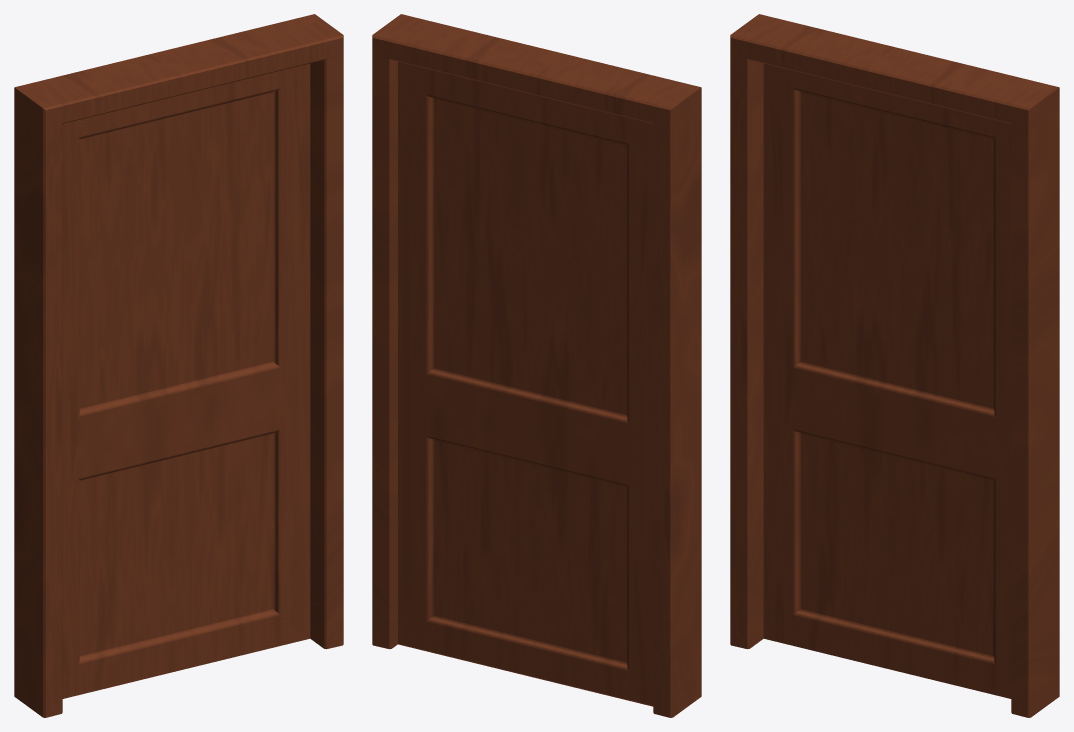
File: PINTU.fbx
3 views of the same model, side by side, from view 1: azimuth 30°, elevation 25°; view 2: azimuth 150°, elevation 25°; view 3: azimuth 330°, elevation 25° (orthographic).
Parts seen in each view (by area): view 1: BUKA PINTU, PINTU; view 2: BUKA PINTU, PINTU; view 3: BUKA PINTU, PINTU.
Part boxes in pixels (x1,y1,x2,y2): BUKA PINTU: (62, 63, 310, 698); PINTU: (14, 14, 343, 717); BUKA PINTU: (398, 61, 653, 706); PINTU: (372, 14, 701, 717); BUKA PINTU: (763, 63, 1011, 698); PINTU: (730, 14, 1059, 717).
Size of the model in its own units: 128 by 248 by 22.61.
2 materials, 2 textured.
